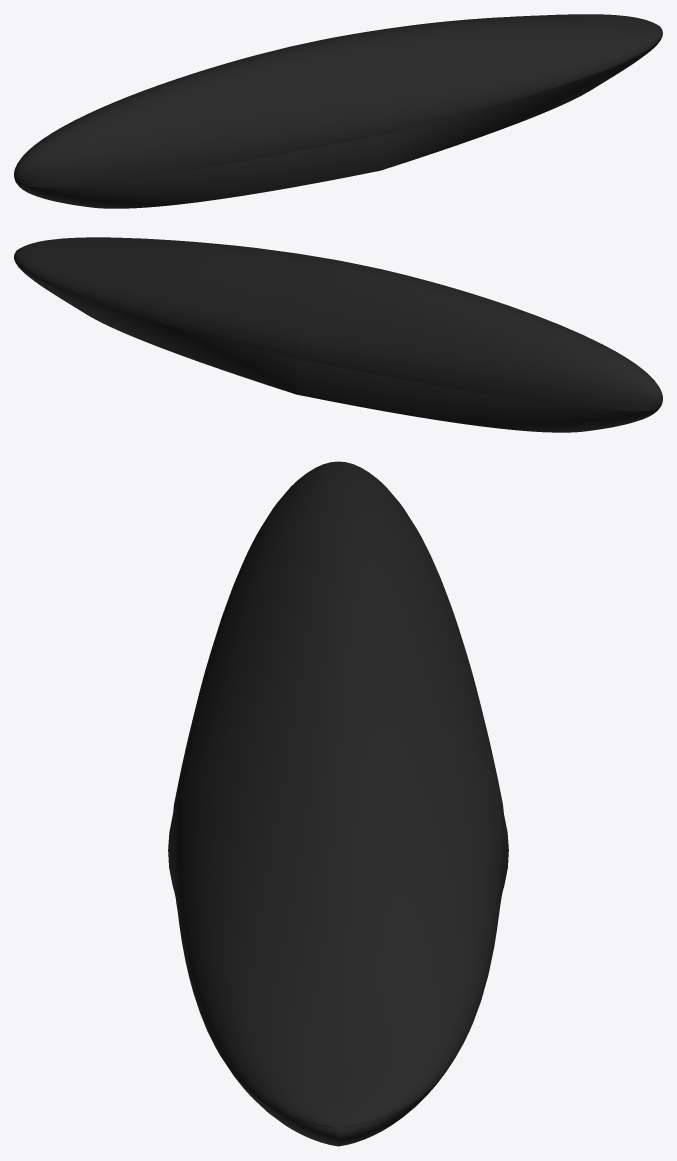
Rendered from aero.gltf.
3 renders of one model, top to bottom at view 1: azimuth 30°, elevation 25°; view 2: azimuth 150°, elevation 25°; view 3: azimuth 270°, elevation 25°, orthographic. The views are drawn at different scales.
Visible parts, largest first — view 1: experiment on recent v0; view 2: experiment on recent v0; view 3: experiment on recent v0.
Part boxes in pixels (x1,y1,x2,y2): experiment on recent v0: (14, 14, 662, 208); experiment on recent v0: (14, 237, 662, 432); experiment on recent v0: (168, 461, 508, 1146).
Size of the model in its own units: 2.71 by 0.3964 by 0.6176.
Materials: 1 (1 with a texture image).
